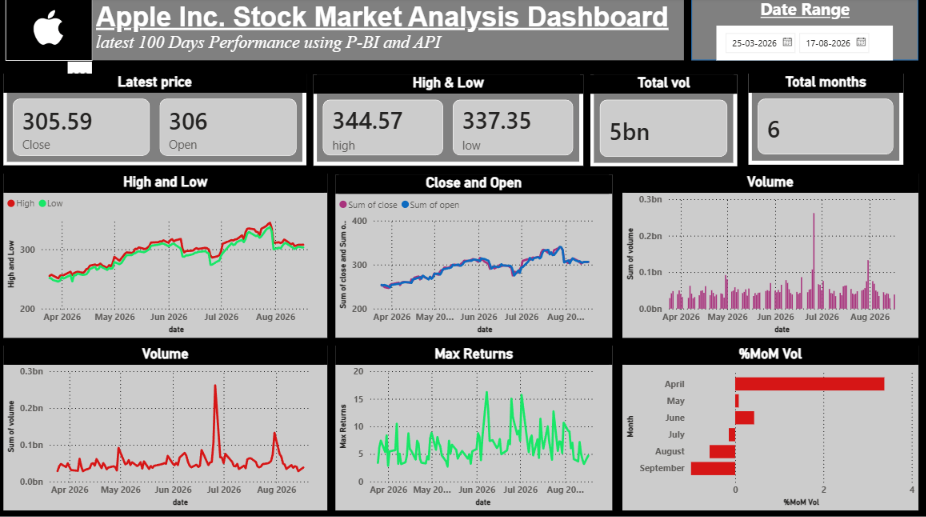

This screenshot's page, from the dashboard's own definition file:
{"tool":"powerbi","page":{"name":"Report","canvas":[1280,720],"ordinal":1},"visuals":[{"type":"shape","box":[955.1,0,312.9,86.4],"z":0},{"type":"image","box":[9.6,0,119.4,86.4],"z":1000},{"type":"textbox","box":[129,0,815.1,86.4],"z":2000},{"type":"slicer","fields":{"Values":["apple stock data.date"]},"box":[989.4,38.4,242.9,48],"z":3000},{"type":"clusteredColumnChart","title":"Volume ","fields":{"Category":["apple stock data.date"],"Y":["Sum(apple stock data.volume)"]},"box":[860,242.6,407.9,226],"z":4000},{"type":"cardVisual","title":"Latest price","fields":{"Data":["Sum(apple stock data.close)","Sum(apple stock data.open)"]},"box":[6.9,104.7,417.6,126.8],"z":5000},{"type":"cardVisual","title":"High & Low","fields":{"Data":["Sum(apple stock data.high)","Sum(apple stock data.low)"]},"box":[434.1,106.1,372.1,125.4],"z":6000},{"type":"cardVisual","title":"Total vol","fields":{"Data":["Sum(apple stock data.volume)"]},"box":[815.9,106.1,202.6,126.8],"z":7000},{"type":"lineChart","title":"Close and Open ","fields":{"Y":["Sum(apple stock data.close)","Sum(apple stock data.open)"],"Category":["apple stock data.date"]},"box":[464.4,243.9,381.7,224.6],"z":8000},{"type":"lineChart","title":"Max Returns","fields":{"Y":["apple stock data.Max Returns"],"Category":["apple stock data.date"]},"box":[464.4,479.6,381.7,227.4],"z":9000},{"type":"lineChart","title":"High and Low ","fields":{"Y":["Sum(apple stock data.high)","Sum(apple stock data.low)"],"Category":["apple stock data.date"]},"box":[6.9,242.6,446.5,226],"z":10000},{"type":"barChart","title":"%MoM Vol ","fields":{"Category":["apple stock data.date.Variation.Date Hierarchy.Month","apple stock data.date.Variation.Date Hierarchy.Year"],"Y":["apple stock data.%MoM Vol"]},"box":[860,479.6,407.9,227.4],"z":11000},{"type":"lineChart","title":"Volume ","fields":{"Y":["Sum(apple stock data.volume)"],"Category":["apple stock data.date"]},"box":[6.9,479.6,446.5,227.4],"z":12000},{"type":"cardVisual","title":"Total months","fields":{"Data":["Count(apple stock data.Month Name)"]},"box":[1033.6,104.7,213.6,125.4],"z":13000}]}

Visuals, with their boxes in screenshot pixels (x1, y1, x2, y2), scaled from the page's 1280x720 canvas onto the 926x517 screenshot:
shape: 691 0 917 62
image: 7 0 93 62
textbox: 93 0 683 62
slicer - apple stock data.date: 716 28 891 62
"Volume " clusteredColumnChart: 622 174 917 336
"Latest price" cardVisual: 5 75 307 166
"High & Low" cardVisual: 314 76 583 166
"Total vol" cardVisual: 590 76 737 167
"Close and Open " lineChart: 336 175 612 336
"Max Returns" lineChart: 336 344 612 508
"High and Low " lineChart: 5 174 328 336
"%MoM Vol " barChart: 622 344 917 508
"Volume " lineChart: 5 344 328 508
"Total months" cardVisual: 748 75 902 165
